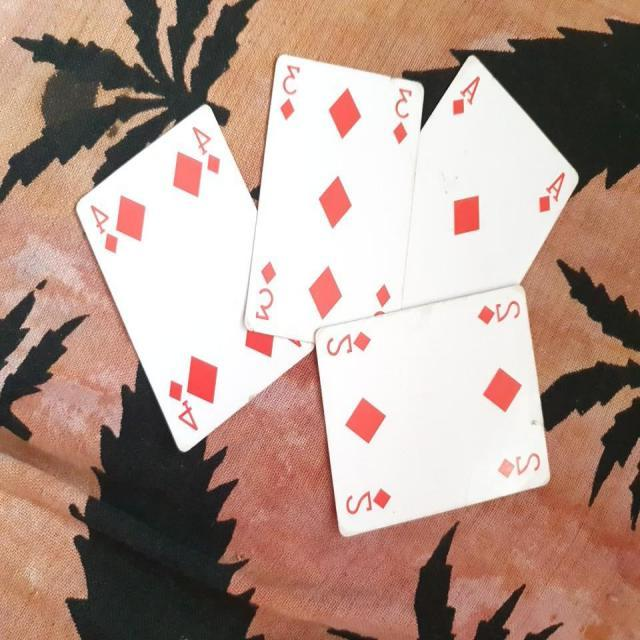2 of diamonds: (314, 285, 566, 536)
3 of diamonds: (245, 45, 429, 338)
4 of diamonds: (75, 100, 318, 458)
ace of diamonds: (418, 46, 592, 297)
